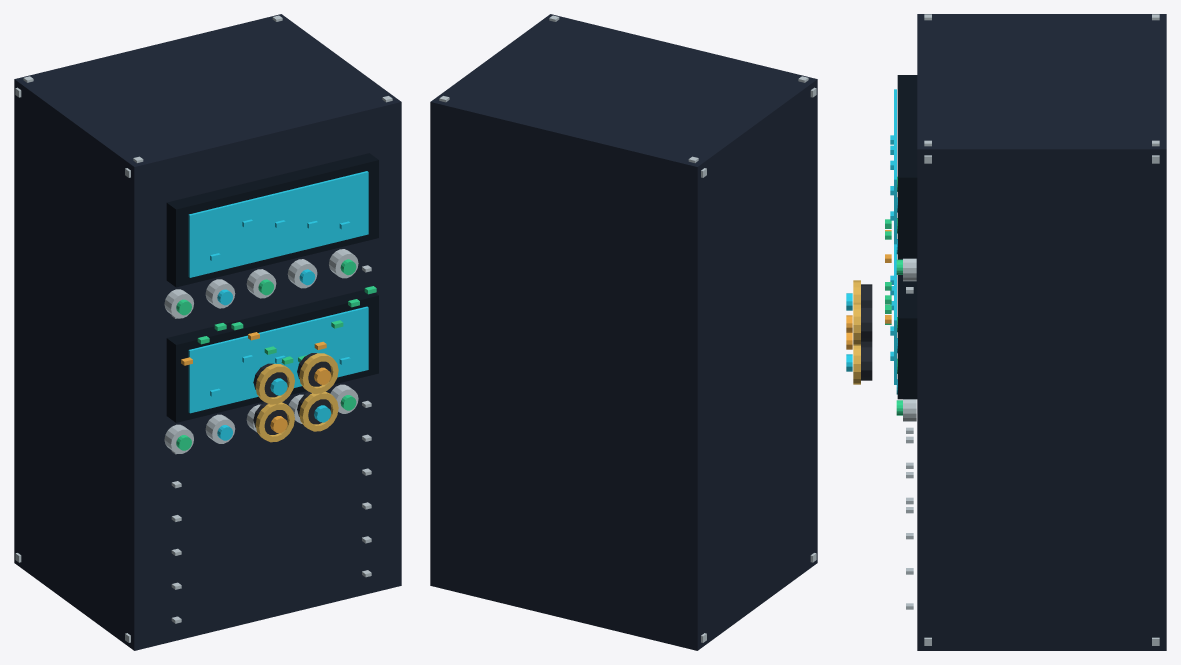
The model's file is 29_L82_EMIComplianceMeasurementReceiver.fbx.
3 views of the same model, side by side, from view 1: azimuth 30°, elevation 25°; view 2: azimuth 150°, elevation 25°; view 3: azimuth 270°, elevation 25° (orthographic). The views are drawn at different scales.
Parts seen in each view (by area): view 1: EMIComplianceMeasurementReceiver; view 2: EMIComplianceMeasurementReceiver; view 3: EMIComplianceMeasurementReceiver.
Boxes of the visible parts, x1,y1,x2,y2 form: EMIComplianceMeasurementReceiver: (14,14,401,650); EMIComplianceMeasurementReceiver: (430,14,817,650); EMIComplianceMeasurementReceiver: (846,14,1166,650).
Bounding box in the file's own units: 106 × 182 × 104.
